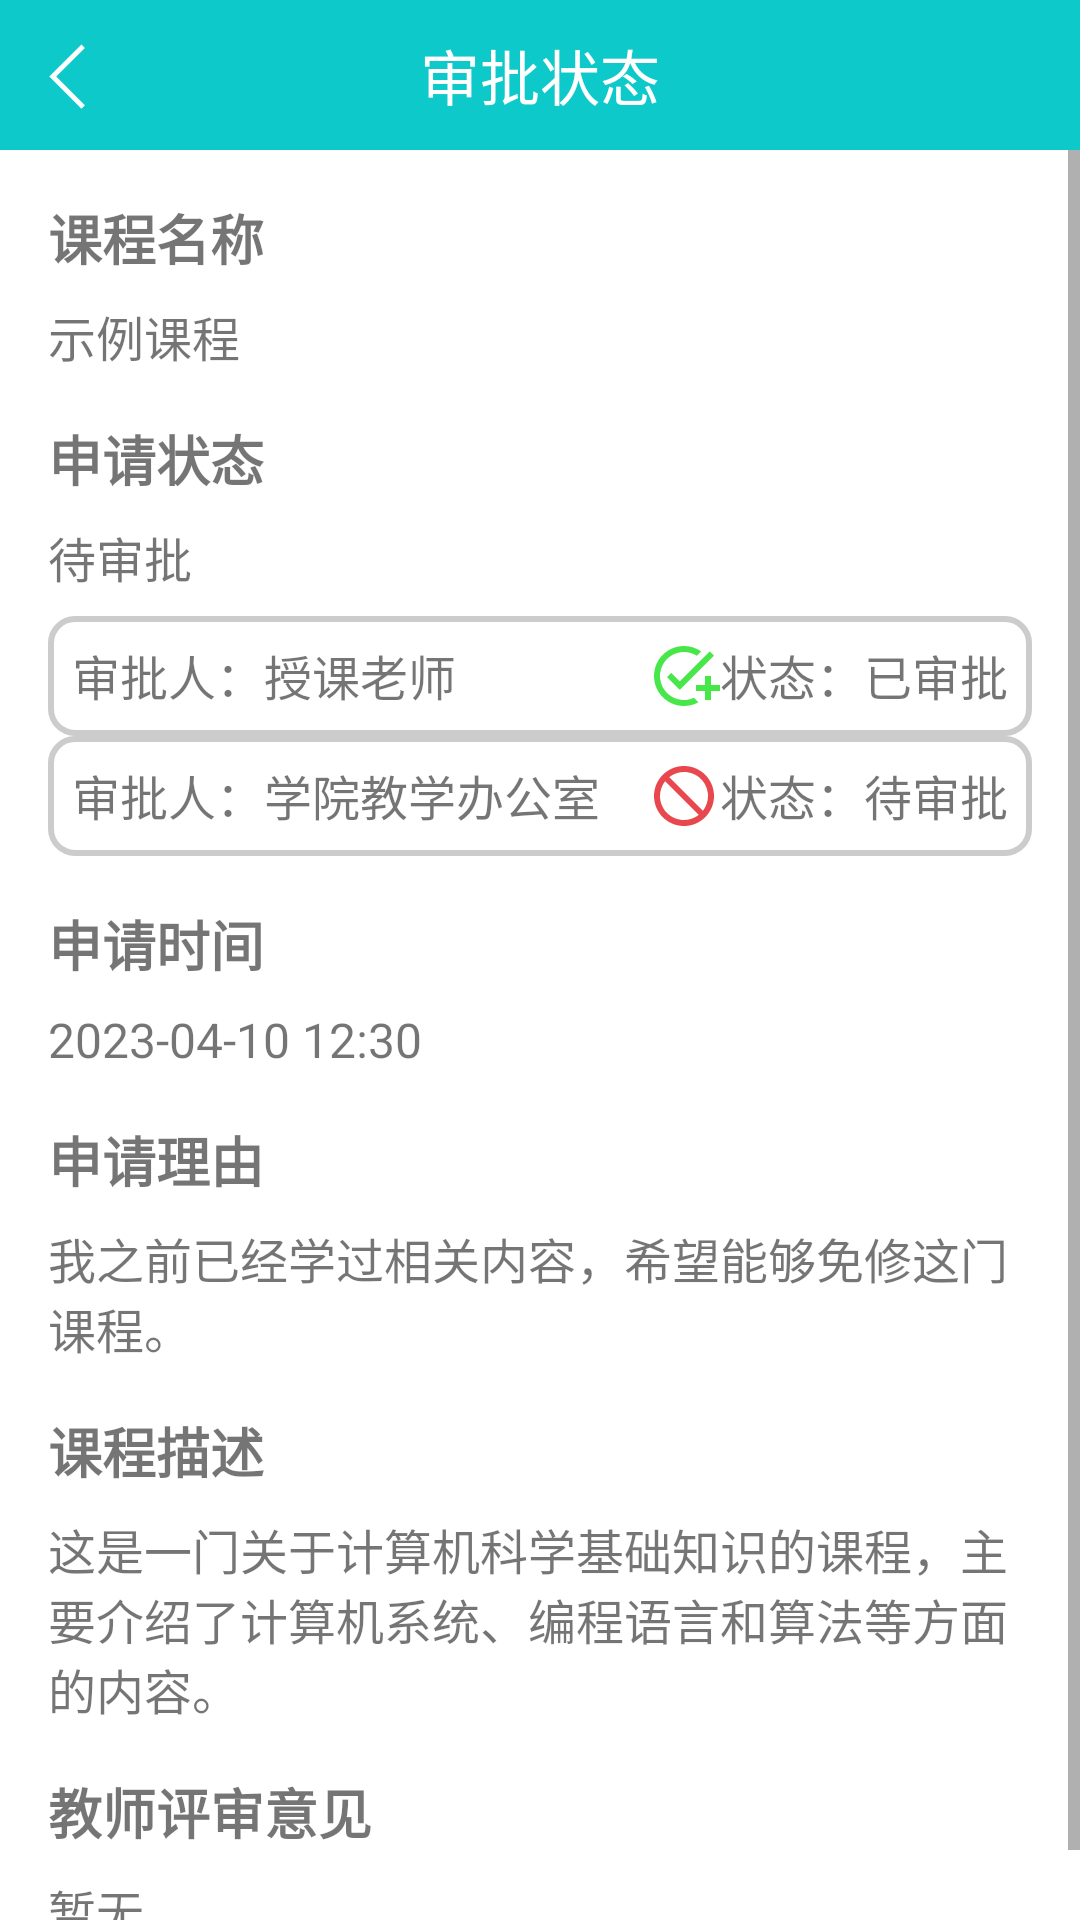

Named icons in this screenshot (1080×1920) and their bounding boxes, (x1, y1, x2, y2):
back: (49, 44, 85, 109)
